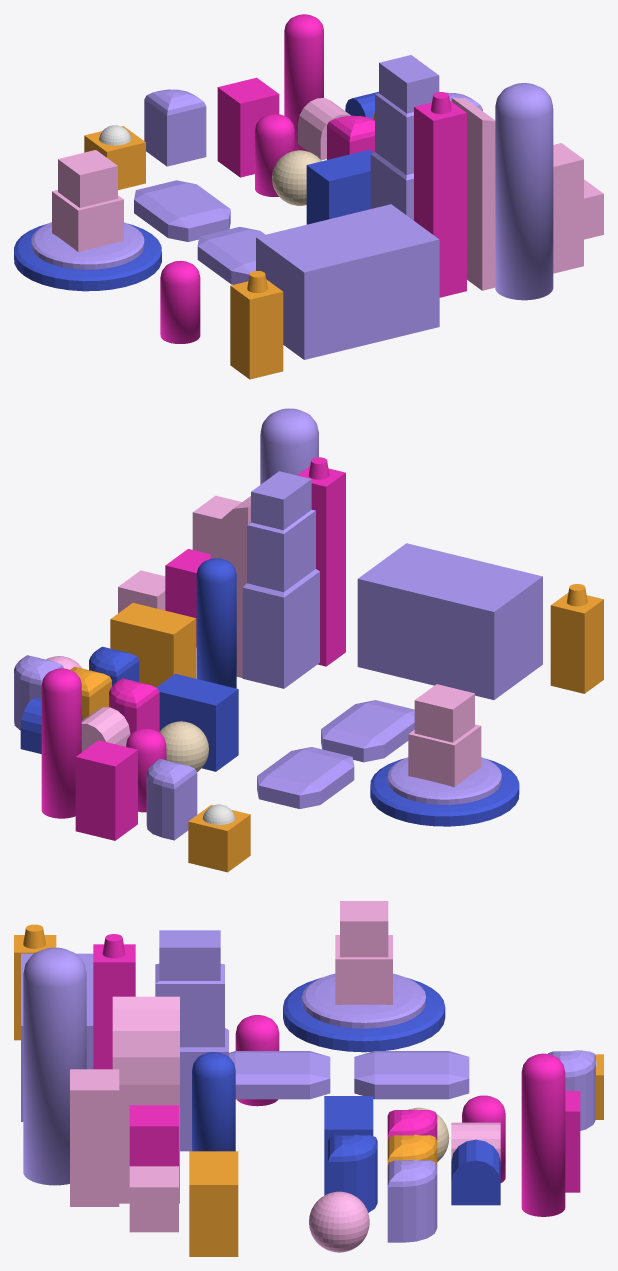
The model's file is gebouwen_a01.glb.
3 renders of one model, top to bottom at view 1: azimuth 30°, elevation 25°; view 2: azimuth 150°, elevation 25°; view 3: azimuth 270°, elevation 25°, orthographic. The views are drawn at different scales.
Visible parts, largest first — view 1: Cube.169, Cylinder.048, Cube.168, Cube.161, Cube.177, Cube.162, Cube.176, Cube.183, Cube.182, Cube.170, Cylinder.049, Cube.173 (+13 smaller); view 2: Cube.169, Cube.161, Cube.177, Cube.168, Cube.170, Cylinder.051, Cube.166, Cube.176, Cylinder.047, Cube.173, Cube.183, Cube.184 (+17 smaller); view 3: Cylinder.048, Cube.162, Cube.161, Cylinder.051, Cube.164, Cube.177, Cube.183, Cube.166, Cylinder.049, Cube.184, Cylinder.047, Cube.181 (+18 smaller).
Boxes of the visible parts, x1,y1,x2,y2 form: Cube.169: [256, 204, 439, 359]; Cylinder.048: [495, 83, 553, 300]; Cube.168: [414, 92, 466, 297]; Cube.161: [370, 55, 439, 220]; Cube.177: [52, 150, 123, 252]; Cube.162: [451, 97, 495, 290]; Cube.176: [230, 271, 283, 379]; Cube.183: [134, 180, 230, 241]; Cube.182: [144, 89, 206, 166]; Cube.170: [217, 77, 279, 177]; Cylinder.049: [14, 223, 161, 291]; Cube.173: [306, 149, 373, 224]; Cube.169: [357, 543, 542, 699]; Cube.161: [242, 471, 319, 688]; Cube.177: [408, 684, 481, 787]; Cube.168: [297, 457, 345, 666]; Cube.170: [75, 740, 137, 840]; Cylinder.051: [41, 668, 81, 818]; Cube.166: [110, 603, 196, 687]; Cube.176: [550, 584, 603, 693]; Cylinder.047: [196, 558, 236, 688]; Cube.173: [156, 673, 238, 771]; Cube.183: [257, 747, 354, 808]; Cube.184: [321, 700, 414, 762]; Cylinder.048: [23, 947, 86, 1185]; Cube.162: [112, 996, 179, 1203]; Cube.161: [155, 930, 228, 1151]; Cylinder.051: [521, 1053, 565, 1216]; Cube.164: [70, 1069, 119, 1206]; Cube.177: [335, 901, 392, 1004]; Cube.183: [354, 1051, 469, 1099]; Cube.166: [189, 1151, 238, 1256]; Cylinder.049: [283, 978, 445, 1052]; Cube.184: [229, 1051, 330, 1099]; Cylinder.047: [192, 1052, 235, 1151]; Cube.181: [387, 1159, 437, 1242].
Size of the model in its own units: 30.7 by 15.45 by 29.71.
